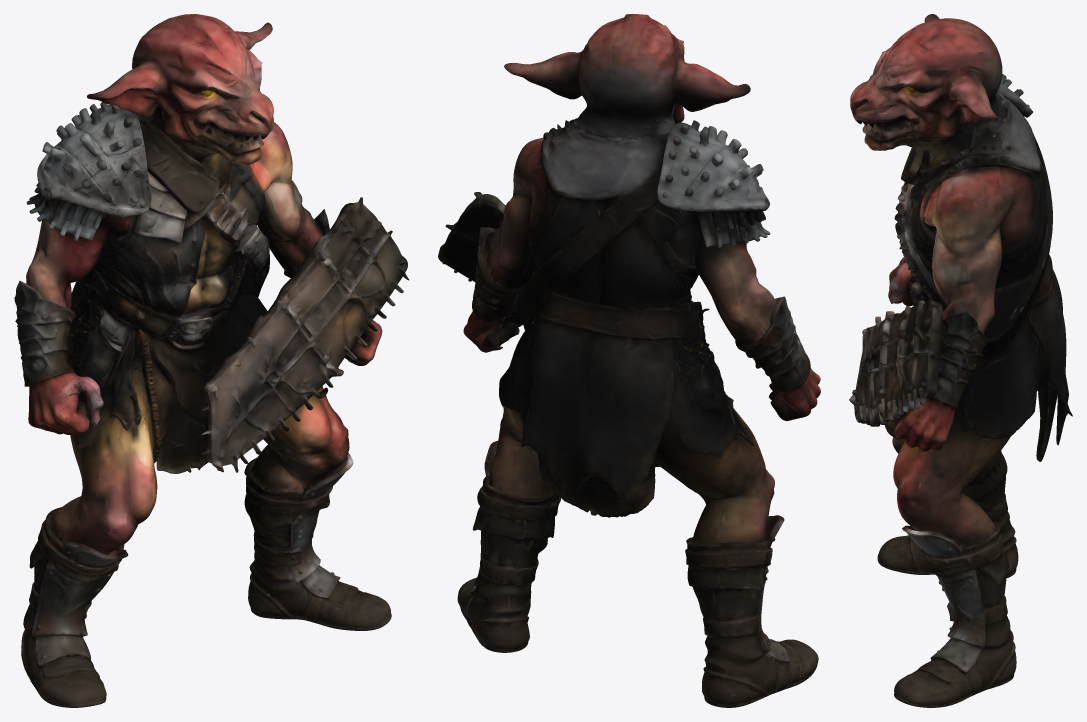
The model's file is kobold.glb.
The picture shows the model from 3 angles, left to right: view 1: azimuth 30°, elevation 25°; view 2: azimuth 150°, elevation 25°; view 3: azimuth 270°, elevation 25°; orthographic projection. The views are drawn at different scales.
Visible parts, largest first — view 1: material; view 2: material; view 3: material.
Part boxes in pixels (x1,y1,x2,y2): material: (14,14,409,707); material: (438,14,820,707); material: (849,14,1072,707).
Bounding box in the file's own units: 0.6363 × 1.03 × 0.3443.
Materials: 1 (1 with a texture image).
